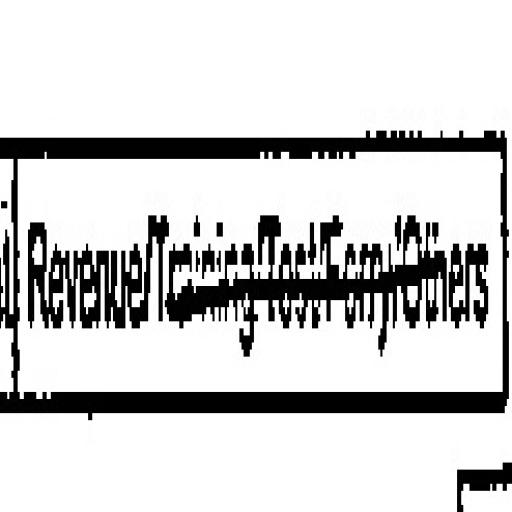check: (24, 80, 143, 484)
